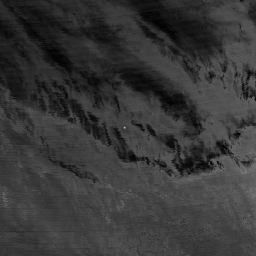Target: (121, 124, 126, 131)
